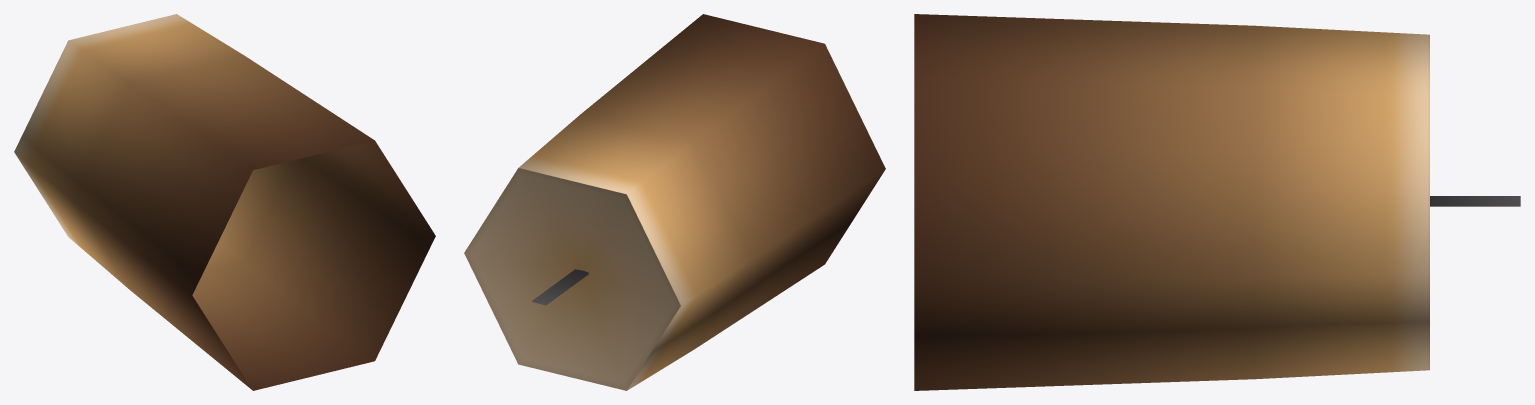
File: Candle_F.fbx
3 views of the same model, side by side, from view 1: azimuth 30°, elevation 25°; view 2: azimuth 150°, elevation 25°; view 3: azimuth 270°, elevation 25° (orthographic). The views are drawn at different scales.
Visible parts, largest first — view 1: Candle_F; view 2: Candle_F; view 3: Candle_F.
Part boxes in pixels (x1,y1,x2,y2): Candle_F: [14, 14, 435, 390]; Candle_F: [464, 14, 885, 390]; Candle_F: [914, 14, 1520, 390].
Size of the model in its own units: 0.2257 by 0.1954 by 0.3614.
